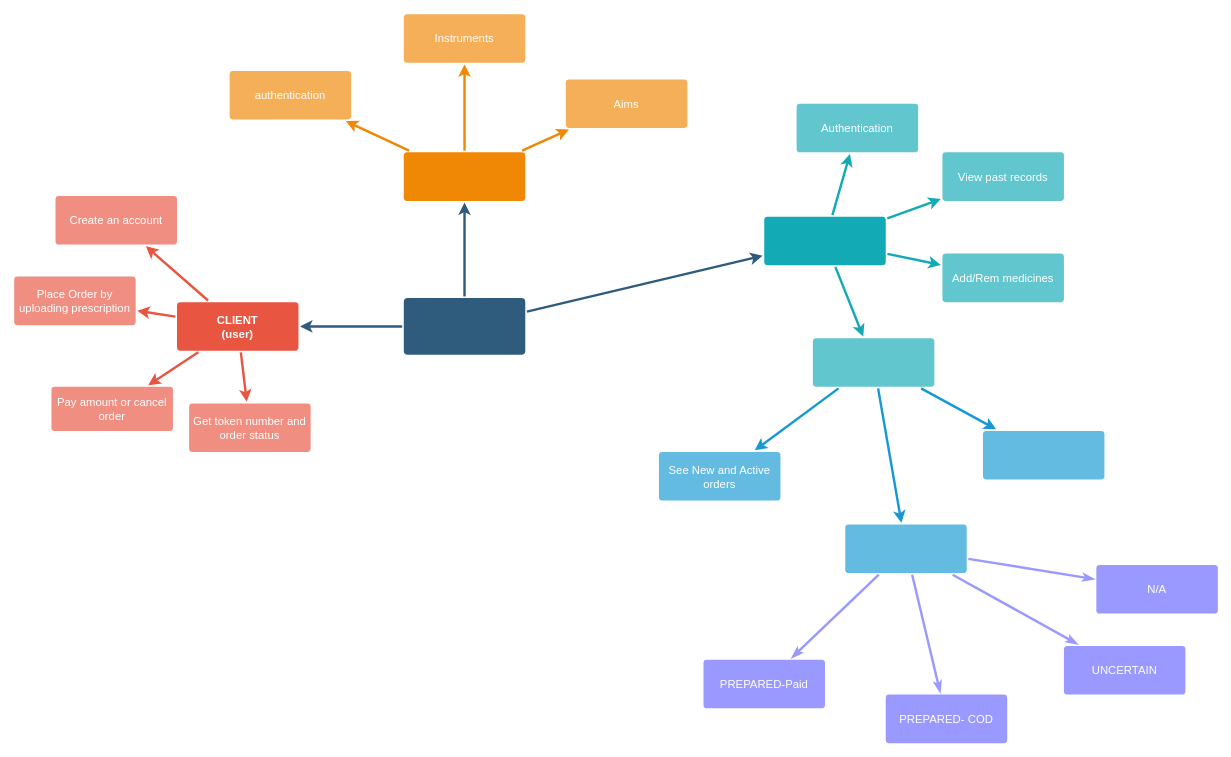
The diagram is 1231 pixels wide and 757 high, and some of its shapes have lost their labels. The shapes that lost their labels are listed below. From the top down, each one's box as (x1, y1, x2, y2) in pixels, then its label:
(403, 152, 525, 200): SERVER (backend)
(764, 216, 885, 265): CLIENT (admin)
(403, 298, 525, 354): JanAsk
(812, 338, 934, 386): Live Dashboard
(845, 524, 966, 573): Change order status
